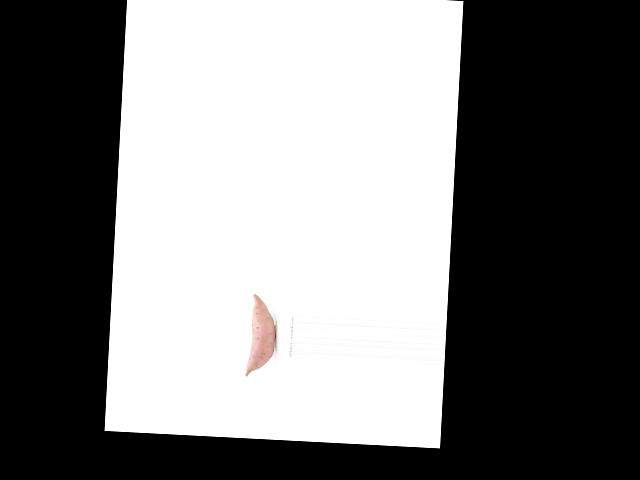sweet_potato: (240, 292, 278, 378)
